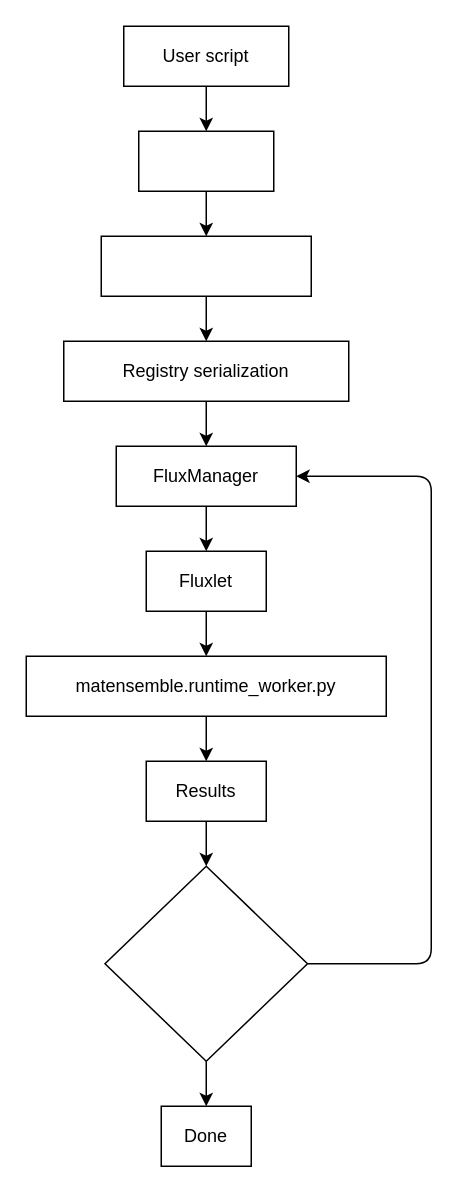
This 470x1193 diagram has some shape labels left out. Each missing label, with the centre of its shape:
Any remaining chores?: pixel 206 963
DAG construction: pixel 205 265
Pipeline: pixel 205 160
